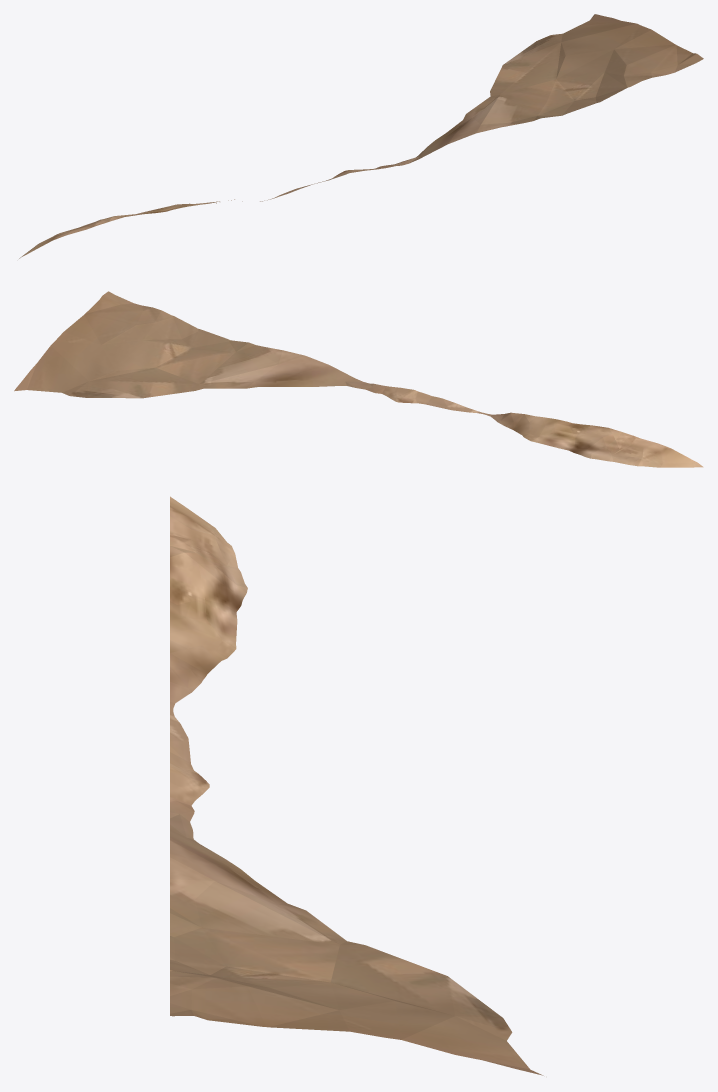
The picture shows the model from 3 angles, top to bottom: view 1: azimuth 30°, elevation 25°; view 2: azimuth 150°, elevation 25°; view 3: azimuth 270°, elevation 25°; orthographic projection. The views are drawn at different scales.
Size of the model in its own units: 0.9088 by 0.045 by 0.25.
1 material, 1 textured.
